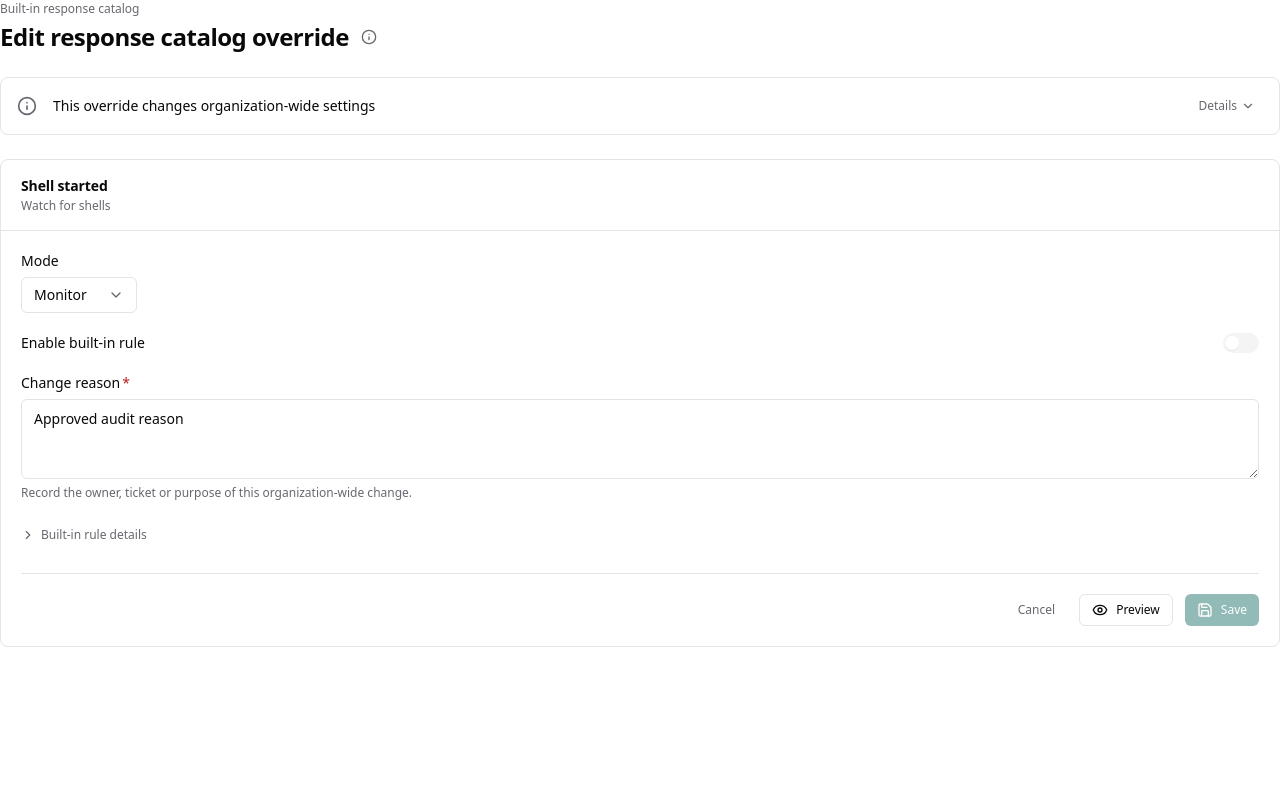
hydrates the saved rule and requires a matching organization preview
Expected: the button "Save" is disabled, x1=1185 y1=594 x2=1259 y2=626
Click the button "Preview": (1126, 610) x1=1079 y1=594 x2=1173 y2=626
(page scrolled)
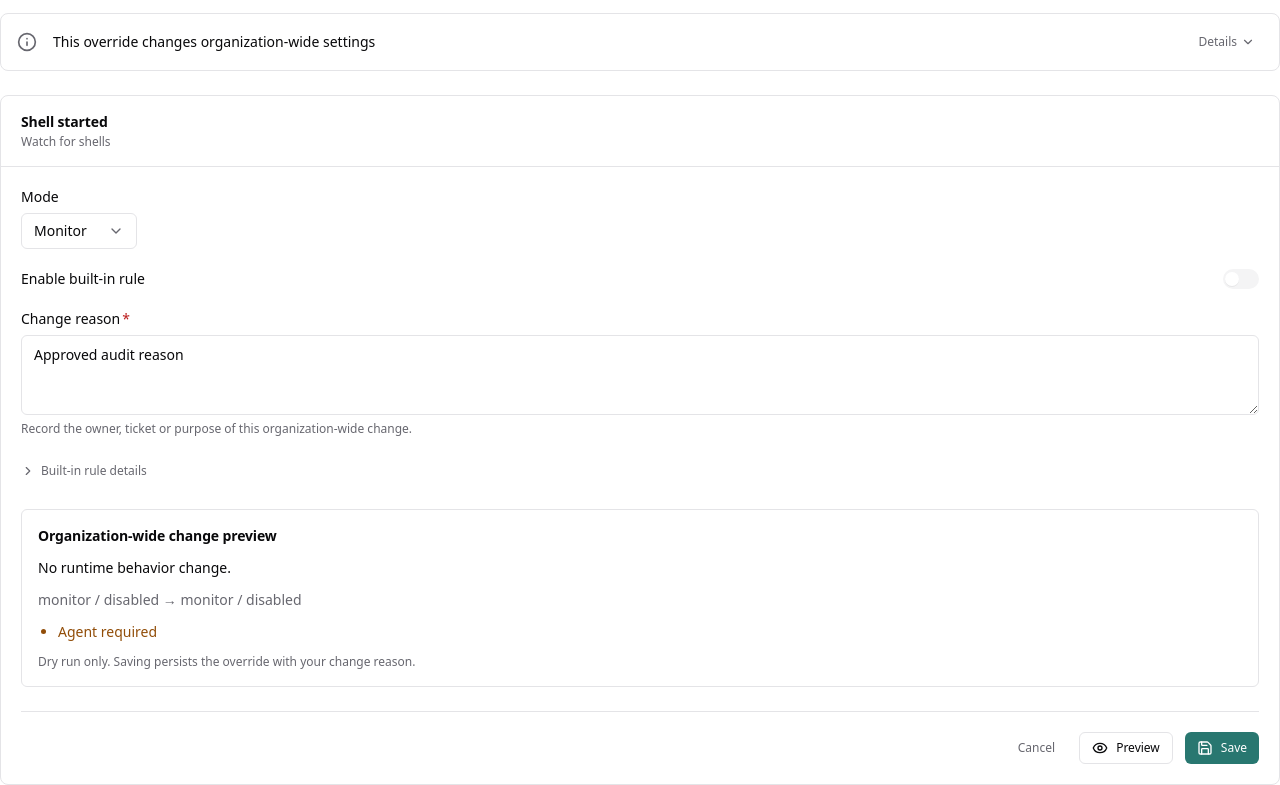
Expected: the button "Save" is enabled, x1=1185 y1=732 x2=1259 y2=764
Expected: the text "Agent required" is shown, x1=58 y1=622 x2=157 y2=641
